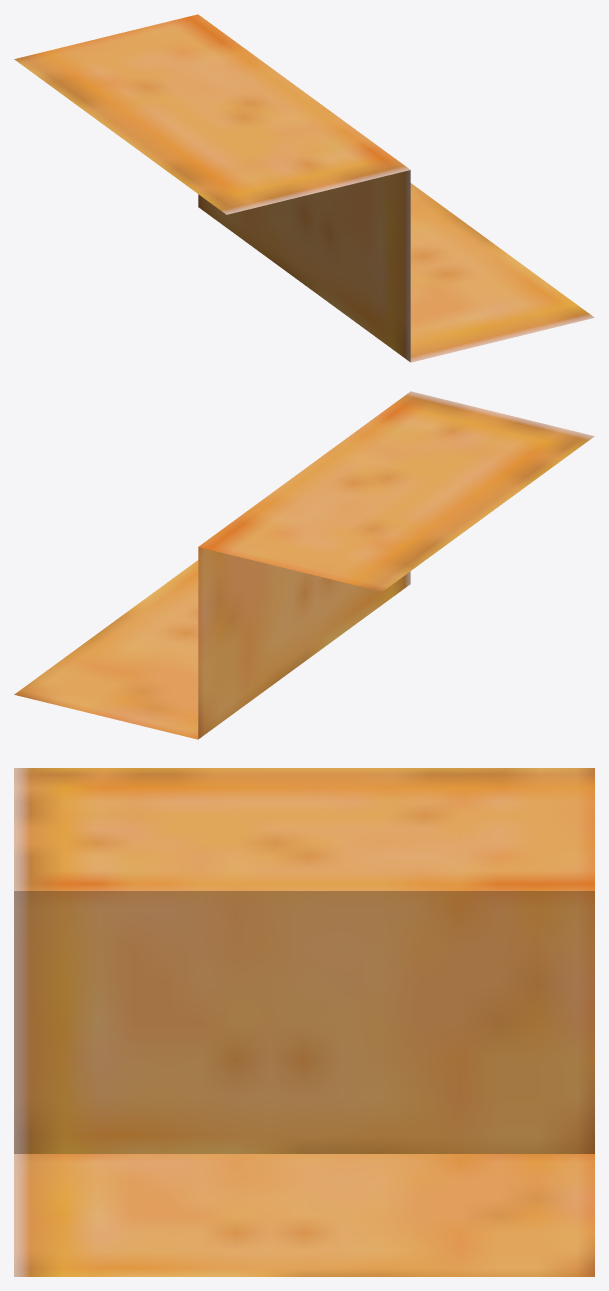
File: geo_stepHigh.fbx
3 renders of one model, top to bottom at view 1: azimuth 30°, elevation 25°; view 2: azimuth 150°, elevation 25°; view 3: azimuth 270°, elevation 25°, orthographic. The views are drawn at different scales.
Visible parts, largest first — view 1: geo_stepHigh; view 2: geo_stepHigh; view 3: geo_stepHigh.
Boxes of the visible parts, box(x1,y1,x2,y2) form: geo_stepHigh: box(14, 14, 594, 362); geo_stepHigh: box(14, 391, 594, 739); geo_stepHigh: box(14, 768, 594, 1276).
Size of the model in its own units: 2 by 1 by 2.
1 material, 1 textured.
